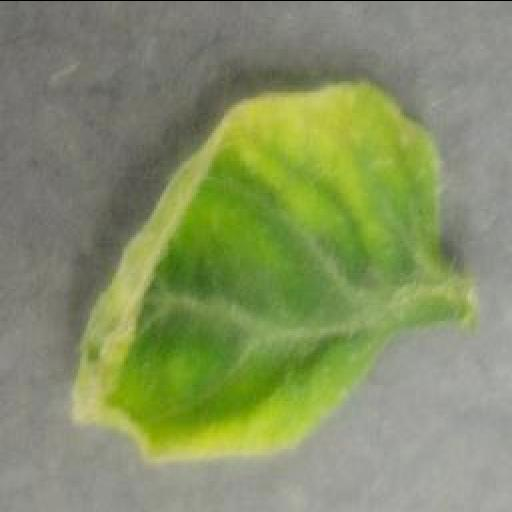disease_tomato: (68, 78, 450, 464)
